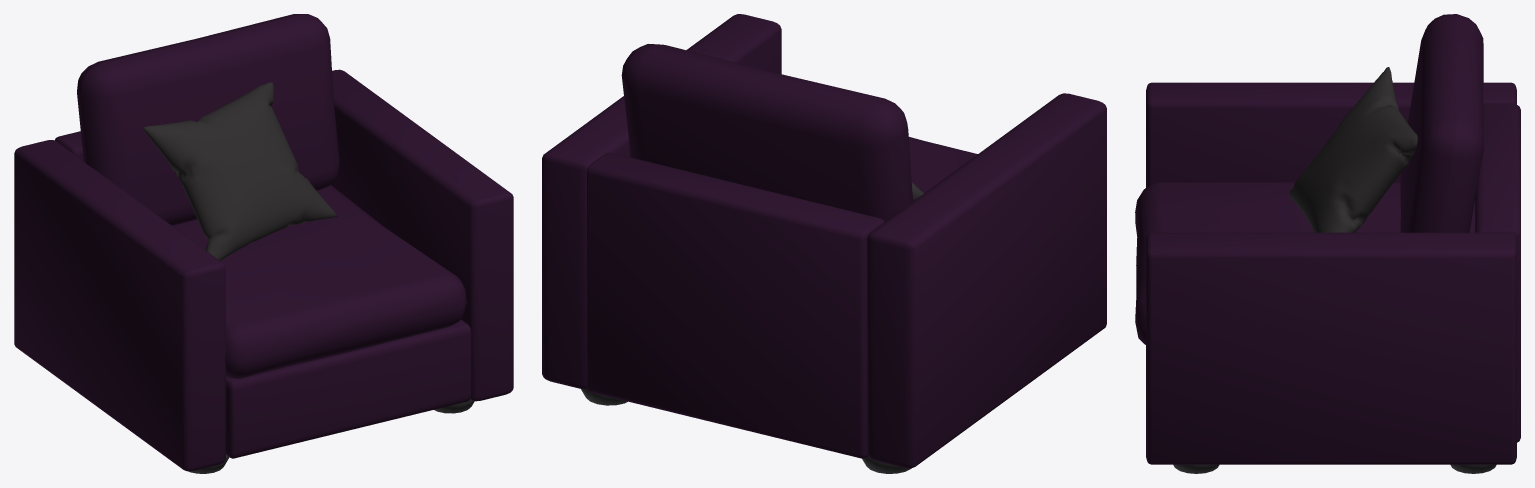
File: purple and black armchair.fbx
3 views of the same model, side by side, from view 1: azimuth 30°, elevation 25°; view 2: azimuth 150°, elevation 25°; view 3: azimuth 270°, elevation 25° (orthographic). The views are drawn at different scales.
Visible parts, largest first — view 1: Cube; view 2: Cube; view 3: Cube.
Part boxes in pixels (x1,y1,x2,y2): Cube: [14, 14, 513, 473]; Cube: [542, 14, 1106, 473]; Cube: [1135, 14, 1520, 473].
Bounding box in the file's own units: 135 × 120 × 127.
